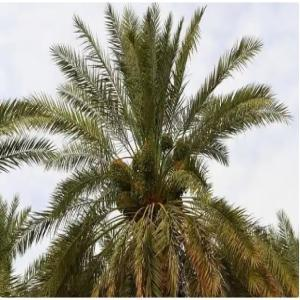palm tree: (1, 2, 296, 296)
